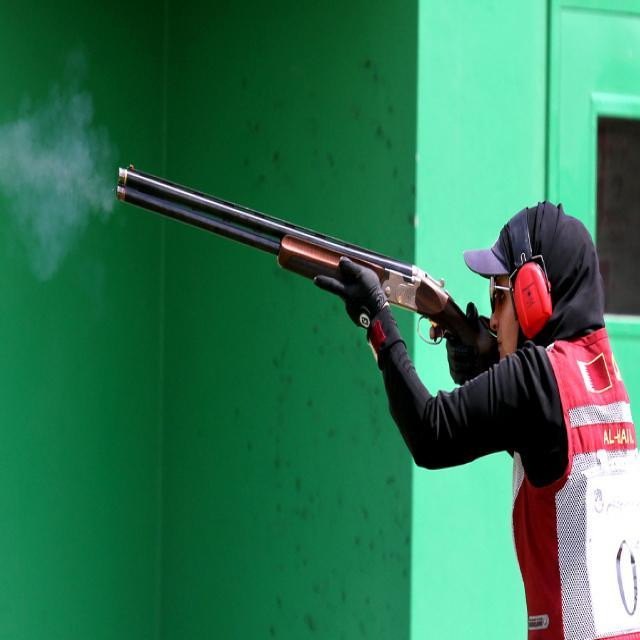weapon: (116, 166, 518, 459)
